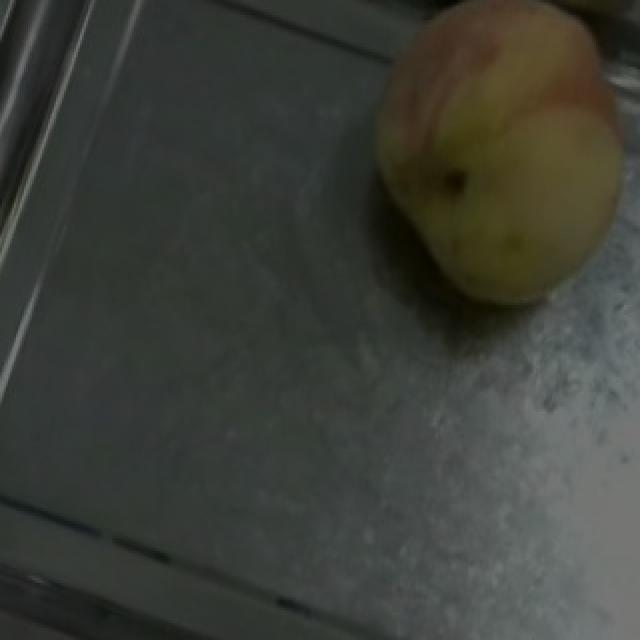Fruit: (324, 0, 640, 355)
